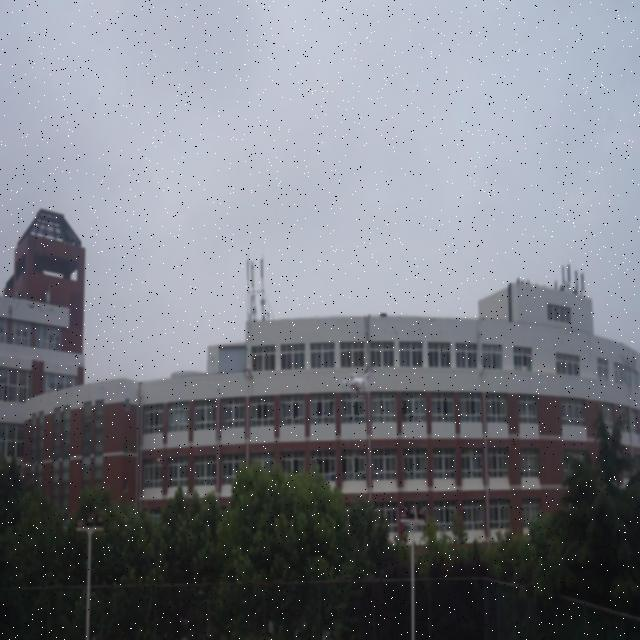UAV: (339, 372, 376, 398)
